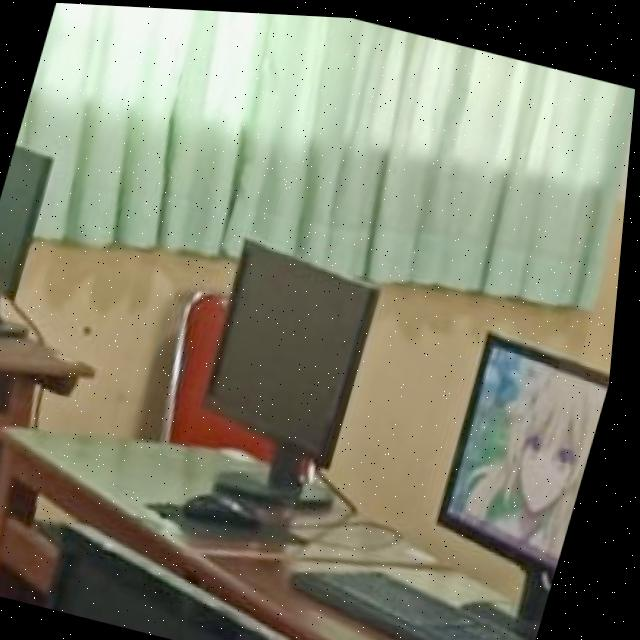offscreen: (214, 238, 384, 491)
onscreen: (447, 328, 616, 635)
